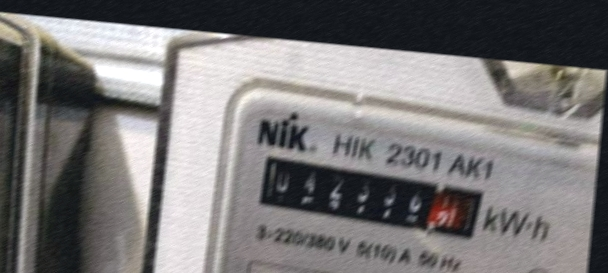0: (274, 167, 289, 197)
2: (325, 174, 346, 203)
3: (352, 177, 371, 207), (381, 180, 398, 210)
4: (300, 171, 318, 199)
6: (405, 189, 423, 217)
screen: (245, 148, 492, 251)
